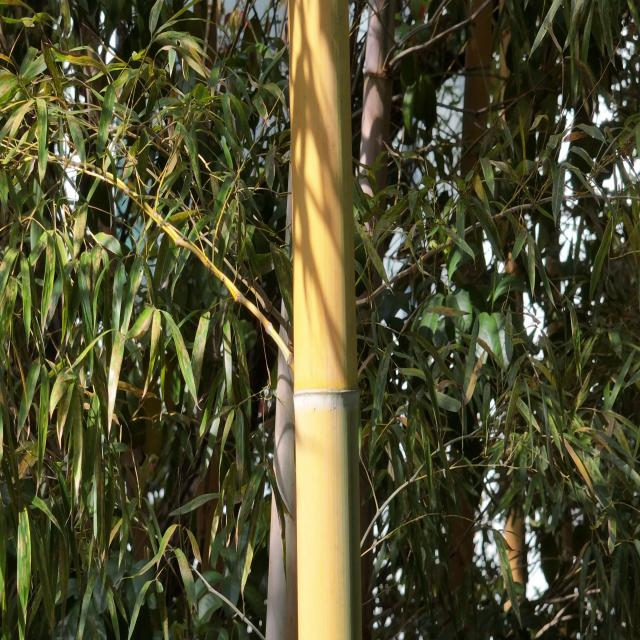Bamboo-shoots: (288, 0, 360, 640)
